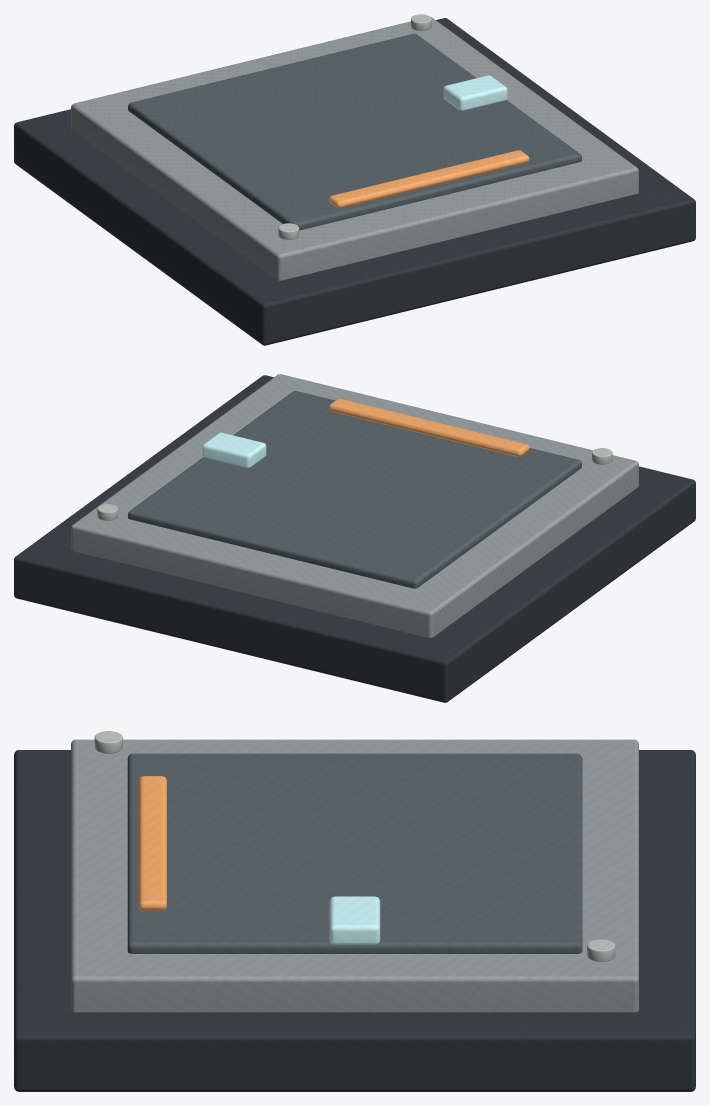
Rendered from FloorServiceHatch.glb.
3 renders of one model, top to bottom at view 1: azimuth 30°, elevation 25°; view 2: azimuth 150°, elevation 25°; view 3: azimuth 270°, elevation 25°, orthographic. The views are drawn at different scales.
Visible parts, largest first — view 1: FloorServiceHatch_Mesh; view 2: FloorServiceHatch_Mesh; view 3: FloorServiceHatch_Mesh.
Part boxes in pixels (<box>): FloorServiceHatch_Mesh: <box>14,14,695,345</box>; FloorServiceHatch_Mesh: <box>14,374,695,702</box>; FloorServiceHatch_Mesh: <box>14,731,695,1091</box>.
Size of the model in its own units: 1.08 by 0.2075 by 1.08.
Materials: 6 (6 with a texture image).
